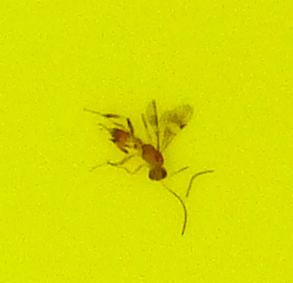Hemiptera: (100, 100, 193, 183)
